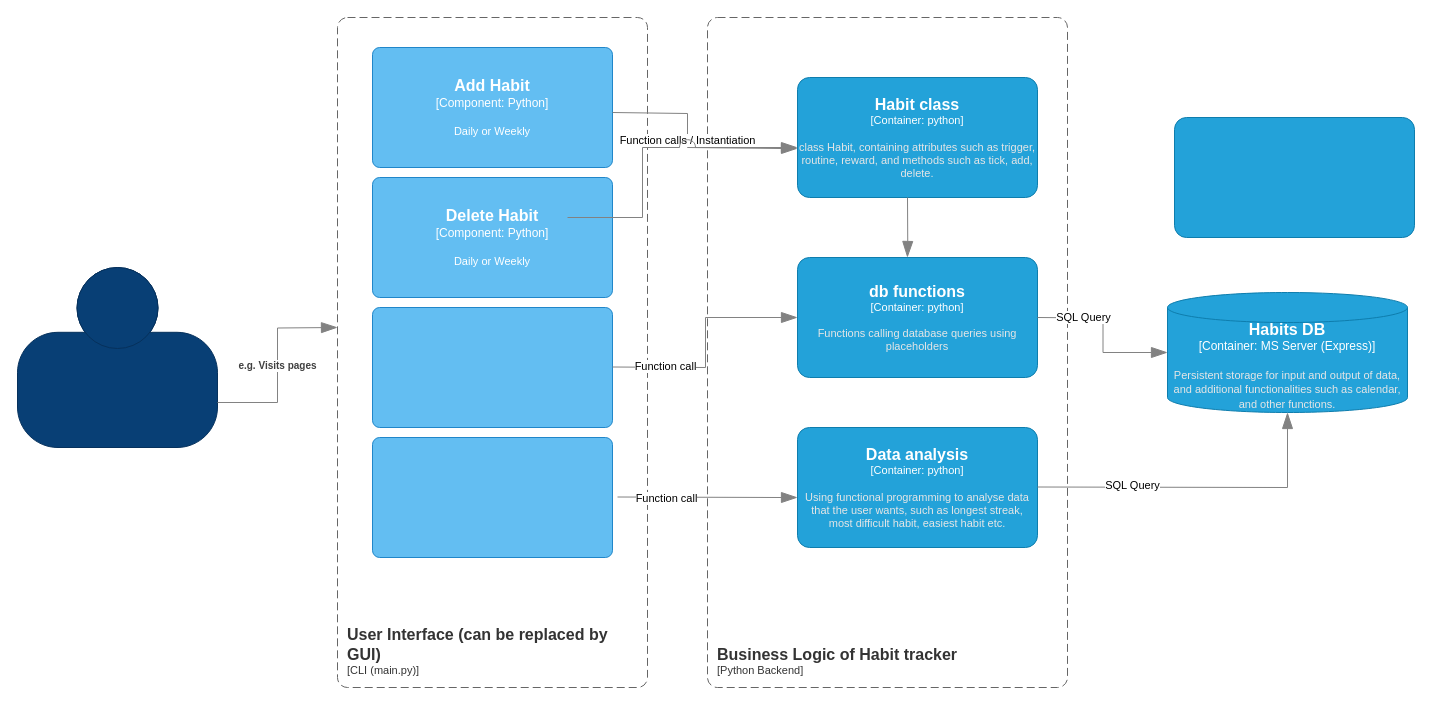
The diagram is 1432 pixels wide and 705 high, and some of its shapes have lost their labels. Here are the shapes that lost their labels. From the top down, the centre of each, then its label:
[1294,177]: db setup [Container: python] sets up the database, and tables + user account
[117,357]: User [Person] Logs and Analyses their habits
[492,367]: Track Progress [Component: Python] Analyse data
[492,497]: Log Progress [Component: Python] Click in completed habit
